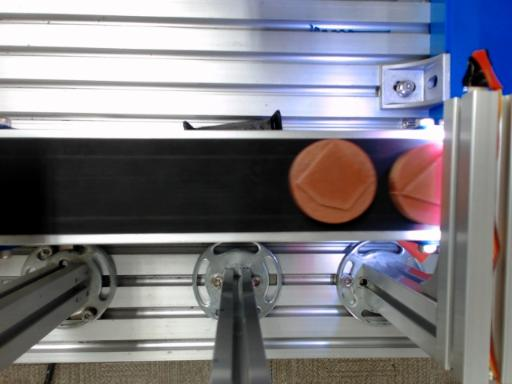Brown_Waper: (290, 140, 377, 223), (389, 142, 442, 225)
